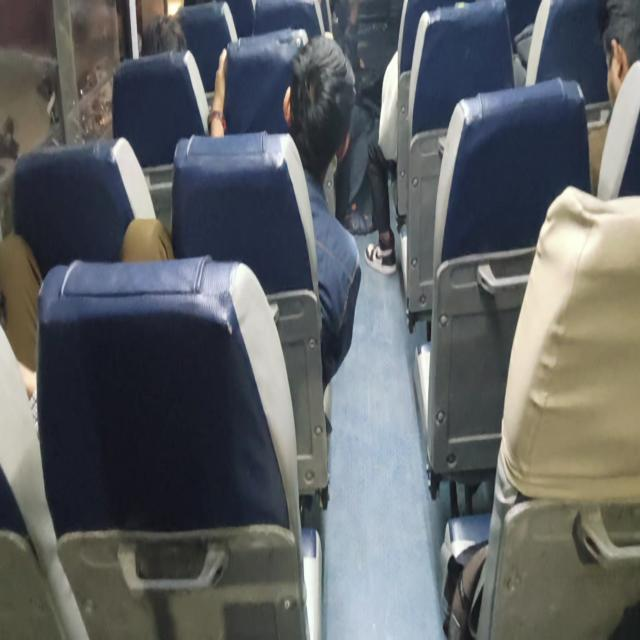person: (291, 34, 360, 146), (591, 12, 640, 79), (139, 12, 192, 51)
